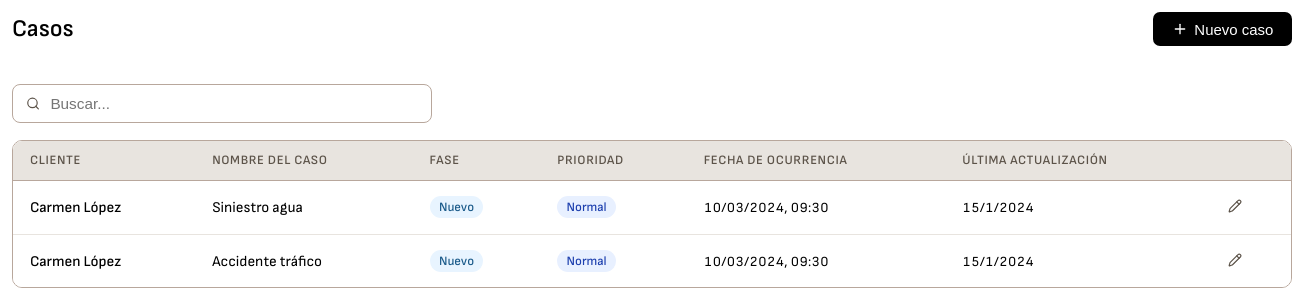
Test: Cases list › filters by case name
In the search field: point(233, 104) [48,94,418,114], type "agua"
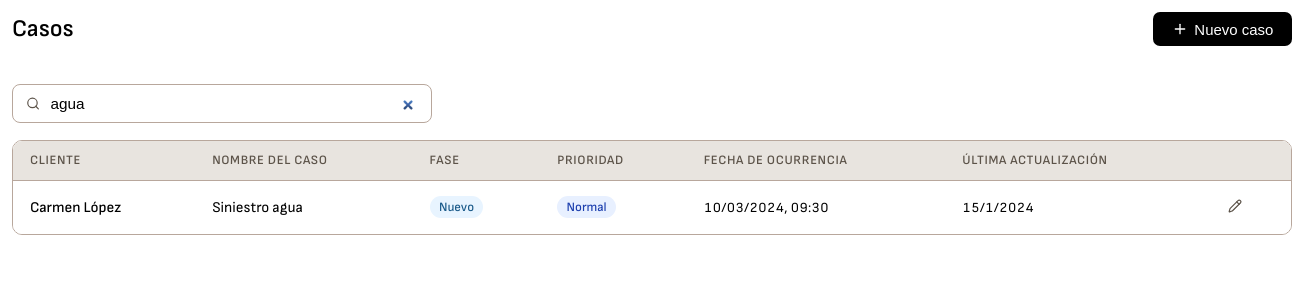
Expected: the text "Siniestro agua" is shown, [195,180,413,234]
Now the text "Accidente tráfico" is gone
